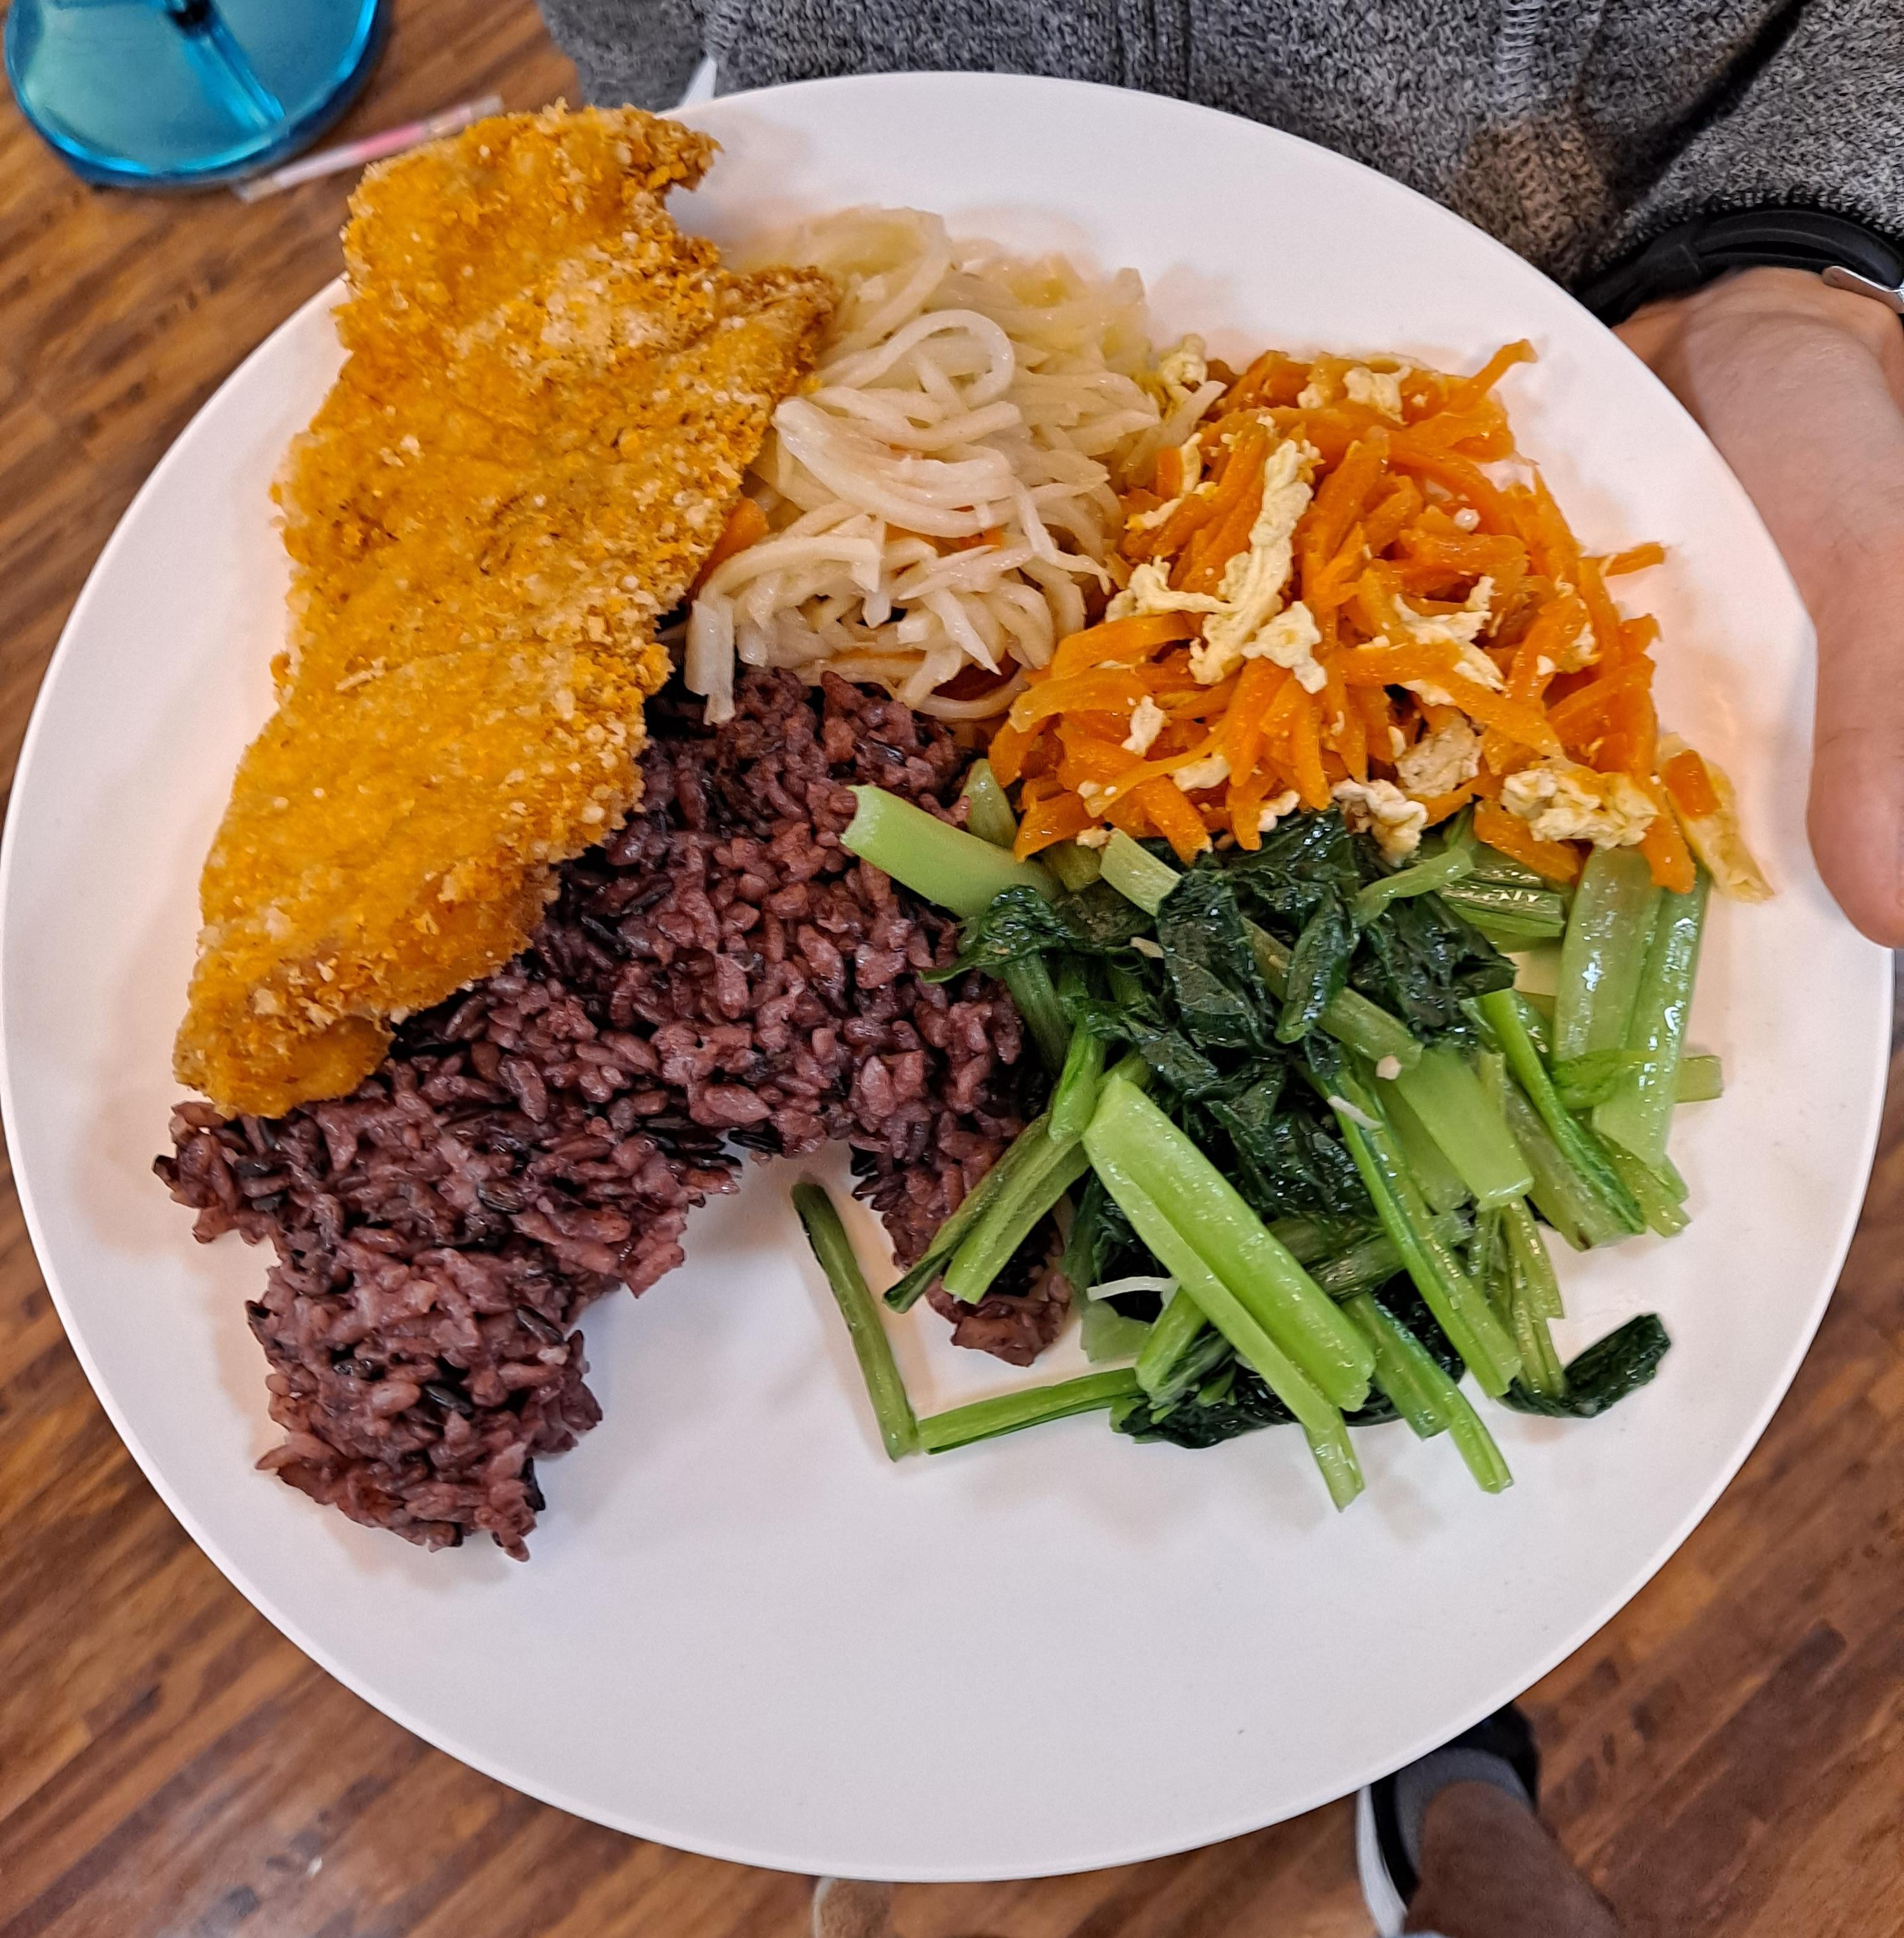big fried chicken leg: (27, 40, 1904, 1921)
braised fish: (133, 649, 1010, 1566)
braised fish fillet: (902, 801, 1752, 1480), (986, 324, 1697, 860), (677, 230, 1196, 734)
braised pork: (123, 90, 814, 1140)
